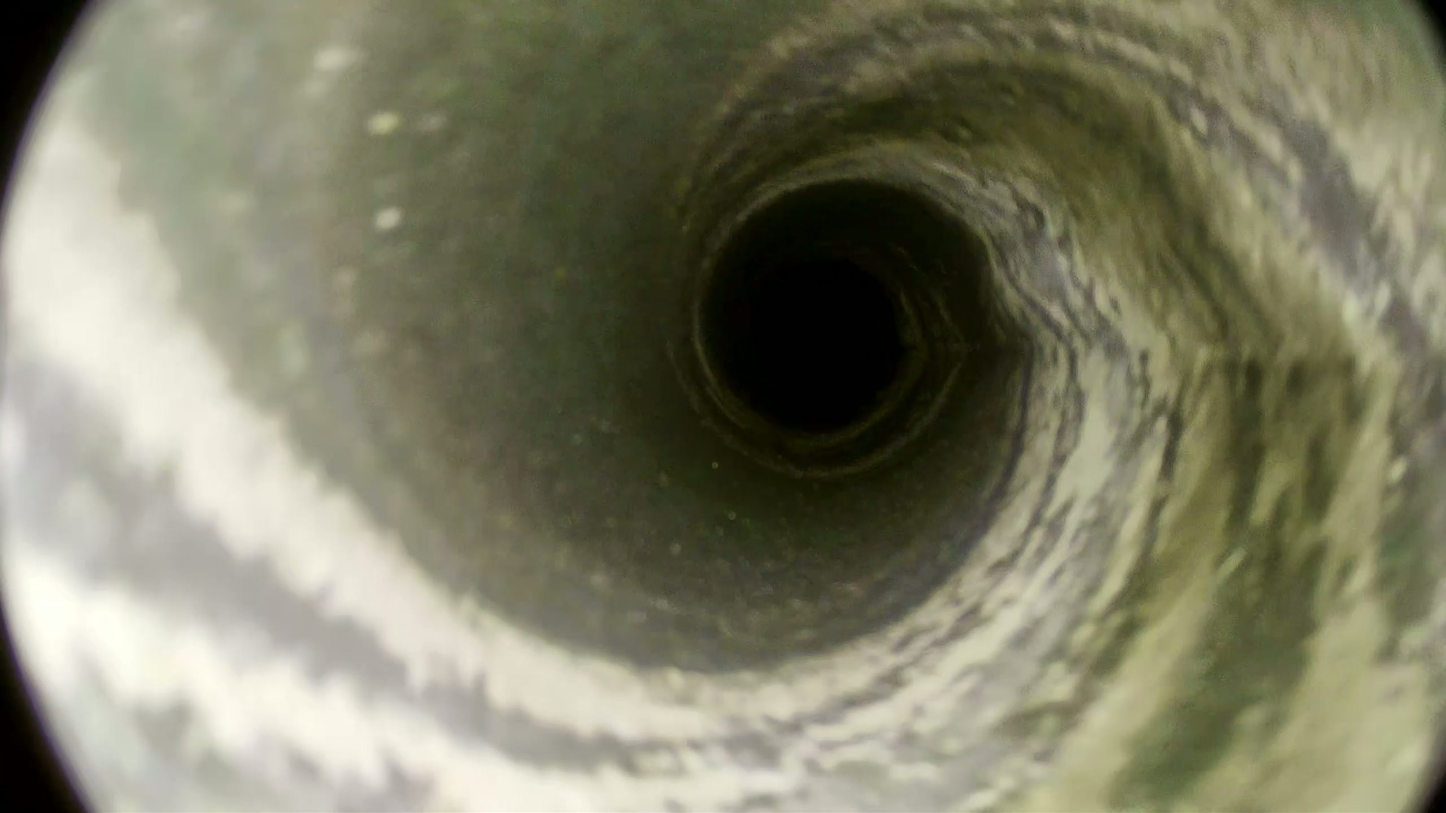hole: (743, 263, 897, 419)
